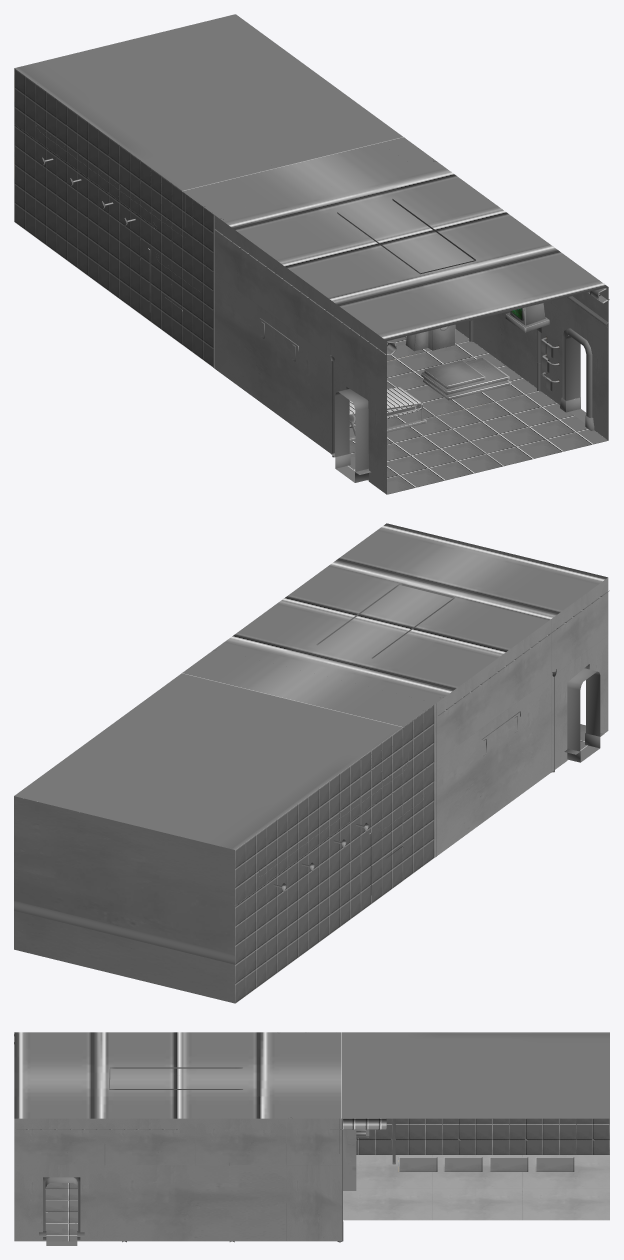
Rendered from MSH_endurance_room_L3_R1_optimized.fbx.
3 views of the same model, one above another, from view 1: azimuth 30°, elevation 25°; view 2: azimuth 150°, elevation 25°; view 3: azimuth 270°, elevation 25° (orthographic). The views are drawn at different scales.
Visible parts, largest first — view 1: lightmap1, lightmap-1; view 2: lightmap1, lightmap-1; view 3: lightmap1, lightmap-1.
Boxes of the visible parts, x1,y1,x2,y2 form: lightmap1: (14,14,609,494); lightmap-1: (335,335,586,482); lightmap1: (14,523,609,1003); lightmap-1: (567,668,600,762); lightmap1: (14,1032,609,1242); lightmap-1: (45,1177,77,1245).
Bounding box in the file's own units: 10.3 × 6.29 × 27.11.
7 materials, 7 textured.
